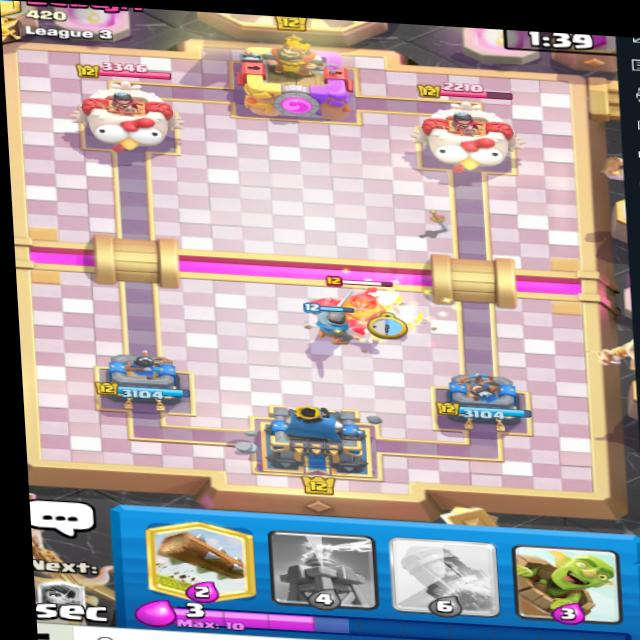mega-knight: (301, 282, 405, 344)
